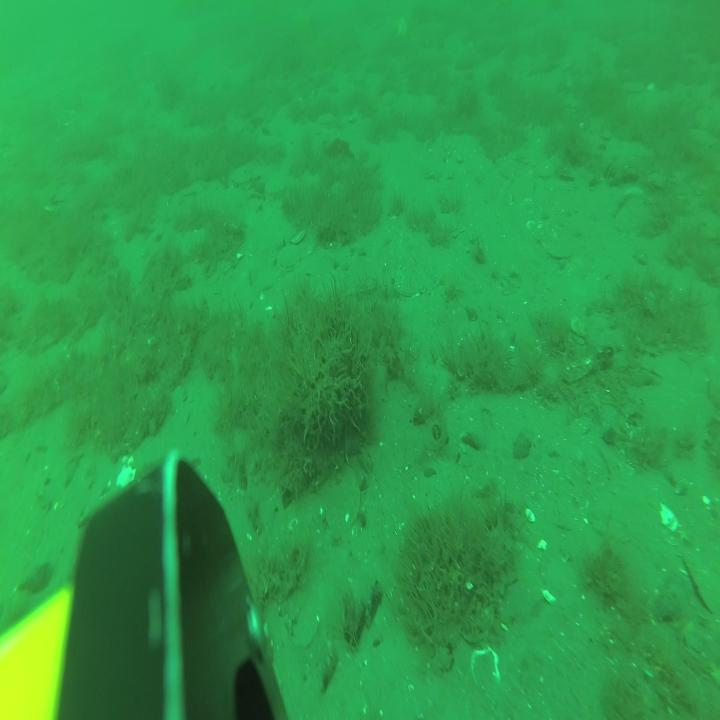scallop: (326, 465, 358, 536), (472, 645, 501, 696), (293, 607, 320, 648), (278, 246, 301, 272), (551, 239, 573, 261)
